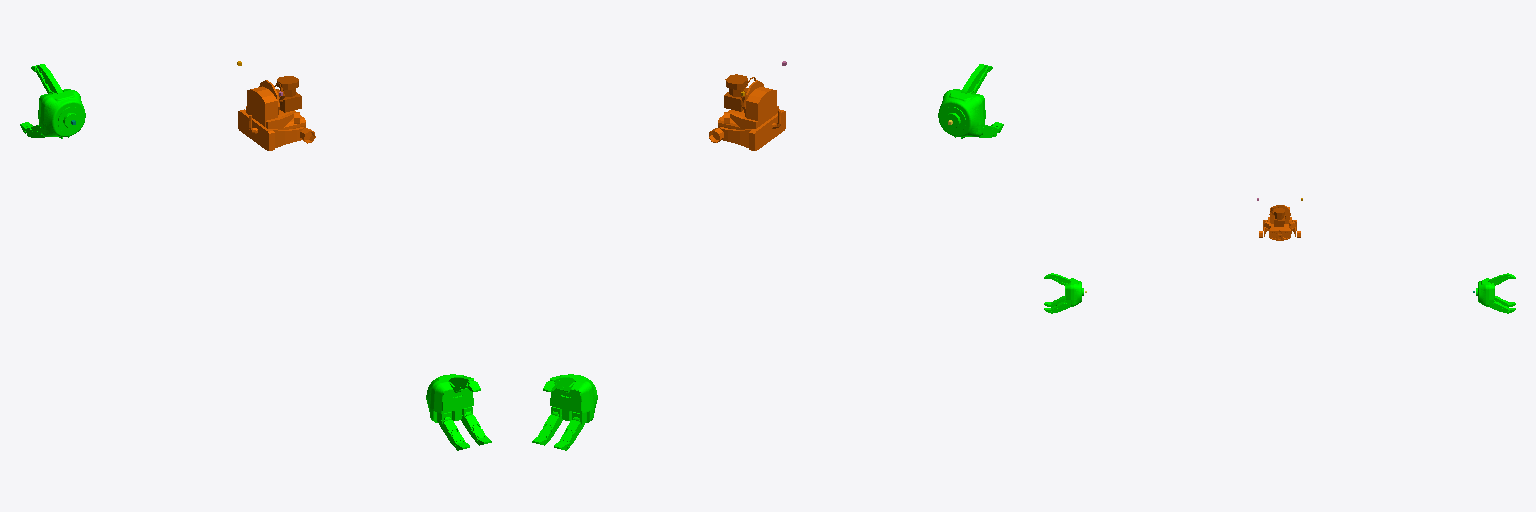
--- Render facts (derived) ---
3 views of the same robot in one strip: view 1: azimuth 30°, elevation 25°; view 2: azimuth 150°, elevation 25°; view 3: azimuth 270°, elevation 25° (orthographic).
Model atlas with 88 links and 87 joints (52 revolute, 1 continuous, 34 fixed), rooted at pelvis, posed every joint at zero.
Visible links, largest first — view 1: head, left_palm, right_palm, hokuyo_link; view 2: head, right_palm, left_palm, hokuyo_link; view 3: head.
Boxes of the visible links, bbox=[...] form: head: bbox=[238, 80, 315, 150]; left_palm: bbox=[38, 89, 85, 138]; right_palm: bbox=[426, 374, 473, 422]; hokuyo_link: bbox=[274, 76, 301, 112]; head: bbox=[709, 80, 785, 150]; right_palm: bbox=[938, 89, 985, 138]; left_palm: bbox=[550, 374, 597, 422]; hokuyo_link: bbox=[724, 74, 755, 111]; head: bbox=[1259, 205, 1300, 240].
Bounding box of the posed robot: 0.201 × 2.59 × 0.6841 m (x, y, z).
Meshes: 29 distinct files referenced, 28 mesh visuals loaded (7 OBJ); not drawn: 28 (reference not matched to a file when rendering).

robot.urdf — atlas:
<?xml version="1.0" ?>
<!-- =================================================================================== -->
<!-- |    This document was autogenerated by xacro from atlas_v5_LR_RR.xacro           | -->
<!-- |    EDITING THIS FILE BY HAND IS NOT RECOMMENDED                                 | -->
<!-- =================================================================================== -->
<robot name="atlas" xmlns:xacro="http://www.ros.org/wiki/xacro">
  <link name="l_clav">
    <inertial>
      <mass value="4.466"/>
      <origin rpy="0 0 0" xyz="0 0 -0.084"/>
      <inertia ixx="0.011" ixy="0" ixz="0" iyy="0.009" iyz="0.004" izz="0.004"/>
    </inertial>
    <visual>
      <geometry>
        <mesh filename="package://atlas_v5/meshes/r_clav.obj"/>
      </geometry>
    </visual>
    <collision>
      <geometry>
        <mesh filename="package://atlas_v5/meshes/r_clav_chull.obj"/>
      </geometry>
    </collision>
  </link>
  <link name="l_foot">
    <inertial>
      <mass value="2.410"/>
      <origin rpy="0 0 0" xyz="0.027 0 -0.067"/>
      <inertia ixx="0.002" ixy="0" ixz="0" iyy="0.007" iyz="0" izz="0.008"/>
    </inertial>
    <visual>
      <geometry>
        <mesh filename="package://atlas_v5/meshes/l_foot.obj"/>
      </geometry>
    </visual>
    <collision>
      <geometry>
        <mesh filename="package://atlas_v5/meshes/l_foot_chull.obj"/>
      </geometry>
    </collision>
  </link>
  <link name="l_hand">
    <inertial>
      <mass value="0.5839"/>
      <origin rpy="0 0 0" xyz="0.00016 -0.08159 0.00002"/>
      <inertia ixx="0.000388" ixy="0" ixz="0" iyy="0.000477" iyz="0" izz="0.000379"/>
    </inertial>
  </link>
  <link name="l_larm">
    <inertial>
      <mass value="3.248"/>
      <origin rpy="0 0 0" xyz="0 0 0"/>
      <inertia ixx="0.00265" ixy="0" ixz="0" iyy="0.00446" iyz="0" izz="0.00446"/>
    </inertial>
    <visual>
      <geometry>
        <mesh filename="package://atlas_v5/meshes/r_larm.obj"/>
      </geometry>
    </visual>
    <collision>
      <geometry>
        <mesh filename="package://atlas_v5/meshes/r_larm_chull.obj"/>
      </geometry>
    </collision>
    <collision>
      <origin rpy=" 0.00000  0.00000  0.00000" xyz=" 0.00000  0.15000  0.00000"/>
      <geometry>
        <box size=" 0.15000  0.20000  0.15000"/>
      </geometry>
    </collision>
  </link>
  <link name="l_lfarm">
    <inertial>
      <mass value="0.648"/>
      <origin rpy="0 0 0" xyz="0.00017 -0.02515 0.00163"/>
      <inertia ixx="0.000764" ixy="0" ixz="0" iyy="0.000429" iyz="0" izz="0.000825"/>
    </inertial>
    <visual>
      <geometry>
        <mesh filename="package://atlas_v5/meshes/r_hand.obj"/>
      </geometry>
    </visual>
    <collision>
      <geometry>
        <mesh filename="package://atlas_v5/meshes/r_hand_chull.obj"/>
      </geometry>
    </collision>
  </link>
  <link name="l_lglut">
    <inertial>
      <mass value="0.898"/>
      <origin rpy="0 0 0" xyz="0.0133341 0.0170484 -0.0312052"/>
      <inertia ixx="0.000691326" ixy="-2.24344e-05" ixz="2.50508e-06" iyy="0.00126856" iyz="0.000137862" izz="0.00106487"/>
    </inertial>
    <visual>
      <geometry>
        <mesh filename="package://atlas_v5/meshes/l_lglut.obj"/>
      </geometry>
    </visual>
    <collision>
      <geometry>
        <mesh filename="package://atlas_v5/meshes/l_lglut_chull.obj"/>
      </geometry>
    </collision>
  </link>
  <link name="l_lleg">
    <inertial>
      <mass value="4.515"/>
      <origin rpy="0 0 0" xyz="0.001 0 -0.187"/>
      <inertia ixx="0.077" ixy="0" ixz="-0.003" iyy="0.076" iyz="0" izz="0.01"/>
    </inertial>
    <visual>
      <geometry>
        <mesh filename="package://atlas_v5/meshes/l_lleg.obj"/>
      </geometry>
    </visual>
    <collision>
      <geometry>
        <mesh filename="package://atlas_v5/meshes/l_lleg_chull.obj"/>
      </geometry>
    </collision>
  </link>
  <link name="l_scap">
    <inertial>
      <mass value="3.899"/>
      <origin rpy="0 0 0" xyz="0 0 0"/>
      <inertia ixx="0.00319" ixy="0" ixz="0" iyy="0.00583" iyz="0" izz="0.00583"/>
    </inertial>
    <visual>
      <geometry>
        <mesh filename="package://atlas_v5/meshes/r_scap.obj"/>
      </geometry>
    </visual>
    <collision>
      <geometry>
        <mesh filename="package://atlas_v5/meshes/r_scap_chull.obj"/>
      </geometry>
    </collision>
  </link>
  <link name="l_talus">
    <inertial>
      <mass value="0.125"/>
      <origin rpy="0 0 0" xyz="0 0 0"/>
      <inertia ixx="1.01674e-05" ixy="0" ixz="0" iyy="8.42775e-06" iyz="0" izz="1.30101e-05"/>
    </inertial>
    <visual>
      <geometry>
        <mesh filename="package://atlas_v5/meshes/l_talus.obj"/>
      </geometry>
    </visual>
  </link>
  <link name="l_uarm">
    <inertial>
      <mass value="4.386"/>
      <origin rpy="0 0 0" xyz="0 0.065 0"/>
      <inertia ixx="0.00656" ixy="0" ixz="0" iyy="0.00358" iyz="0" izz="0.00656"/>
    </inertial>
    <visual>
      <geometry>
        <mesh filename="package://atlas_v5/meshes/r_uarm.obj"/>
      </geometry>
    </visual>
    <collision>
      <geometry>
        <mesh filename="package://atlas_v5/meshes/r_uarm_chull.obj"/>
      </geometry>
    </collision>
  </link>
  <link name="l_ufarm">
    <inertial>
      <mass value="2.4798"/>
      <origin rpy="0 0 0" xyz="0.00015 0.08296 0.00037"/>
      <inertia ixx="0.012731" ixy="0" ixz="0" iyy="0.002857" iyz="0" izz="0.011948"/>
    </inertial>
    <visual>
      <geometry>
        <mesh filename="package://atlas_v5/meshes/r_farm.obj"/>
      </geometry>
    </visual>
    <collision>
      <geometry>
        <mesh filename="package://atlas_v5/meshes/r_farm_chull.obj"/>
      </geometry>
    </collision>
  </link>
  <link name="l_uglut">
    <inertial>
      <mass value="1.959"/>
      <origin rpy="0 0 0" xyz="0.00529262 -0.00344732 0.00313046"/>
      <inertia ixx="0.00074276" ixy="-3.79607e-08" ixz="-2.79549e-05" iyy="0.000688179" iyz="-3.2735e-08" izz="0.00041242"/>
    </inertial>
    <visual>
      <geometry>
        <mesh filename="package://atlas_v5/meshes/l_uglut.obj"/>
      </geometry>
    </visual>
    <collision>
      <geometry>
        <mesh filename="package://atlas_v5/meshes/l_uglut_chull.obj"/>
      </geometry>
    </collision>
  </link>
  <link name="l_uleg">
    <inertial>
      <mass value="8.204"/>
      <origin rpy="0 0 0" xyz="0 0 -0.21"/>
      <inertia ixx="0.09" ixy="0" ixz="0" iyy="0.09" iyz="0" izz="0.02"/>
    </inertial>
    <visual>
      <geometry>
        <mesh filename="package://atlas_v5/meshes/l_uleg.obj"/>
      </geometry>
    </visual>
    <!-- to cover the logo shield -->
    <!-- inside strut -->
    <!-- outside strut -->
    <collision>
      <geometry>
        <mesh filename="package://atlas_v5/meshes/l_uleg_chull.obj"/>
      </geometry>
    </collision>
  </link>
  <link name="ltorso">
    <inertial>
      <mass value="2.270"/>
      <origin rpy="0 0 0" xyz="-0.0112984 -3.15366e-06 0.0746835"/>
      <inertia ixx="0.0039092" ixy="-5.04491e-08" ixz="-0.000342157" iyy="0.00341694" iyz="4.87119e-07" izz="0.00174492"/>
    </inertial>
    <visual>
      <geometry>
        <mesh filename="package://atlas_v5/meshes/ltorso.obj"/>
      </geometry>
    </visual>
  </link>
  <link name="mtorso">
    <inertial>
      <mass value="0.799"/>
      <origin rpy="0 0 0" xyz="-0.00816266 -0.0131245 0.0305974"/>
      <inertia ixx="0.000454181" ixy="-6.10764e-05" ixz="3.94009e-05" iyy="0.000483282" iyz="5.27463e-05" izz="0.000444215"/>
    </inertial>
    <visual>
      <geometry>
        <mesh filename="package://atlas_v5/meshes/mtorso.obj"/>
      </geometry>
    </visual>
  </link>
  <link name="pelvis">
    <inertial>
      <mass value="9.509"/>
      <origin rpy="0 0 0" xyz="0.0111 0 0.0271"/>
      <inertia ixx="0.1244" ixy="0.0008" ixz="-0.0007" iyy="0.0958" iyz="-0.0005" izz="0.1167"/>
    </inertial>
    <visual>
      <geometry>
        <mesh filename="package://atlas_v5/meshes/pelvis.obj"/>
      </geometry>
    </visual>
    <collision>
      <geometry>
        <mesh filename="package://atlas_v5/meshes/pelvis_chull.obj"/>
      </geometry>
    </collision>
  </link>
  <link name="r_clav">
    <inertial>
      <mass value="4.466"/>
      <origin rpy="0 0 0" xyz="0 0 -0.084"/>
      <inertia ixx="0.011" ixy="0" ixz="0" iyy="0.009" iyz="0.004" izz="0.004"/>
    </inertial>
    <visual>
      <geometry>
        <mesh filename="package://atlas_v5/meshes/r_clav.obj"/>
      </geometry>
    </visual>
    <collision>
      <geometry>
        <mesh filename="package://atlas_v5/meshes/r_clav_chull.obj"/>
      </geometry>
    </collision>
  </link>
  <link name="r_foot">
    <inertial>
      <mass value="2.41"/>
      <origin rpy="0 0 0" xyz="0.027 0 -0.067"/>
      <inertia ixx="0.002" ixy="0" ixz="0" iyy="0.007" iyz="0" izz="0.008"/>
    </inertial>
    <visual>
      <geometry>
        <mesh filename="package://atlas_v5/meshes/r_foot.obj"/>
      </geometry>
    </visual>
    <collision>
      <geometry>
        <mesh filename="package://atlas_v5/meshes/r_foot_chull.obj"/>
      </geometry>
    </collision>
  </link>
  <link name="r_hand">
    <inertial>
      <mass value="0.5839"/>
      <origin rpy="0 0 0" xyz="0.00016 -0.08159 0.00002"/>
      <inertia ixx="0.000388" ixy="0" ixz="0" iyy="0.000477" iyz="0" izz="0.000379"/>
    </inertial>
  </link>
  <link name="r_larm">
    <inertial>
      <mass value="3.248"/>
      <origin rpy="0 0 0" xyz="0 0 0"/>
      <inertia ixx="0.00265" ixy="0" ixz="0" iyy="0.00446" iyz="0" izz="0.00446"/>
    </inertial>
    <visual>
      <geometry>
        <mesh filename="package://atlas_v5/meshes/r_larm.obj"/>
      </geometry>
    </visual>
    <collision>
      <geometry>
        <mesh filename="package://atlas_v5/meshes/r_larm_chull.obj"/>
      </geometry>
    </collision>
    <collision>
      <origin rpy=" 0.00000  0.00000  0.00000" xyz=" 0.00000  0.15000  0.00000"/>
      <geometry>
        <box size=" 0.15000  0.20000  0.15000"/>
      </geometry>
    </collision>
  </link>
  <link name="r_lfarm">
    <inertial>
      <mass value="0.648"/>
      <origin rpy="0 0 0" xyz="0.00017 -0.02515 0.00163"/>
      <inertia ixx="0.000764" ixy="0" ixz="0" iyy="0.000429" iyz="0" izz="0.000825"/>
    </inertial>
    <visual>
      <geometry>
        <mesh filename="package://atlas_v5/meshes/r_hand.obj"/>
      </geometry>
    </visual>
    <collision>
      <geometry>
        <mesh filename="package://atlas_v5/meshes/r_hand_chull.obj"/>
      </geometry>
    </collision>
  </link>
  <link name="r_lglut">
    <inertial>
      <mass value="0.898"/>
      <origin rpy="0 0 0" xyz="0.0133341 -0.0170484 -0.0312052"/>
      <inertia ixx="0.000691326" ixy="2.24344e-05" ixz="2.50508e-06" iyy="0.00126856" iyz="-0.000137862" izz="0.00106487"/>
    </inertial>
    <visual>
      <geometry>
        <mesh filename="package://atlas_v5/meshes/r_lglut.obj"/>
      </geometry>
    </visual>
    <collision>
      <geometry>
        <mesh filename="package://atlas_v5/meshes/r_lglut_chull.obj"/>
      </geometry>
    </collision>
  </link>
  <link name="r_lleg">
    <inertial>
      <mass value="4.515"/>
      <origin rpy="0 0 0" xyz="0.001 0 -0.187"/>
      <inertia ixx="0.077" ixy="-0" ixz="-0.003" iyy="0.076" iyz="-0" izz="0.01"/>
    </inertial>
    <visual>
      <geometry>
        <mesh filename="package://atlas_v5/meshes/r_lleg.obj"/>
      </geometry>
    </visual>
    <collision>
      <geometry>
        <mesh filename="package://atlas_v5/meshes/r_lleg_chull.obj"/>
      </geometry>
    </collision>
  </link>
  <link name="r_scap">
    <inertial>
      <mass value="3.899"/>
      <origin rpy="0 0 0" xyz="0 0 0"/>
      <inertia ixx="0.00319" ixy="0" ixz="0" iyy="0.00583" iyz="0" izz="0.00583"/>
    </inertial>
    <visual>
      <geometry>
        <mesh filename="package://atlas_v5/meshes/r_scap.obj"/>
      </geometry>
    </visual>
    <collision>
      <geometry>
        <mesh filename="package://atlas_v5/meshes/r_scap_chull.obj"/>
      </geometry>
    </collision>
  </link>
  <link name="r_talus">
    <inertial>
      <mass value="0.125"/>
      <origin rpy="0 0 0" xyz="0 0 0"/>
      <inertia ixx="1.01674e-05" ixy="0" ixz="0" iyy="8.42775e-06" iyz="0" izz="1.30101e-05"/>
    </inertial>
    <visual>
      <geometry>
        <mesh filename="package://atlas_v5/meshes/r_talus.obj"/>
      </geometry>
    </visual>
  </link>
  <link name="r_uarm">
    <inertial>
      <mass value="4.386"/>
      <origin rpy="0 0 0" xyz="0 0.065 0"/>
      <inertia ixx="0.00656" ixy="0" ixz="0" iyy="0.00358" iyz="0" izz="0.00656"/>
    </inertial>
    <visual>
      <geometry>
        <mesh filename="package://atlas_v5/meshes/r_uarm.obj"/>
      </geometry>
    </visual>
    <collision>
      <geometry>
        <mesh filename="package://atlas_v5/meshes/r_uarm_chull.obj"/>
      </geometry>
    </collision>
  </link>
  <link name="r_ufarm">
    <inertial>
      <mass value="2.4798"/>
      <origin rpy="0 0 0" xyz="0.00015 0.08296 0.00037"/>
      <inertia ixx="0.012731" ixy="0" ixz="0" iyy="0.002857" iyz="0" izz="0.011948"/>
    </inertial>
    <visual>
      <geometry>
        <mesh filename="package://atlas_v5/meshes/r_farm.obj"/>
      </geometry>
    </visual>
    <collision>
      <geometry>
        <mesh filename="package://atlas_v5/meshes/r_farm_chull.obj"/>
      </geometry>
    </collision>
  </link>
  <link name="r_uglut">
    <inertial>
      <mass value="1.959"/>
      <origin rpy="0 0 0" xyz="0.00529262 0.00344732 0.00313046"/>
      <inertia ixx="0.00074276" ixy="3.79607e-08" ixz="-2.79549e-05" iyy="0.000688179" iyz="3.2735e-08" izz="0.00041242"/>
    </inertial>
    <visual>
      <geometry>
        <mesh filename="package://atlas_v5/meshes/r_uglut.obj"/>
      </geometry>
    </visual>
    <collision>
      <geometry>
        <mesh filename="package://atlas_v5/meshes/r_uglut_chull.obj"/>
      </geometry>
    </collision>
  </link>
  <link name="r_uleg">
    <inertial>
      <mass value="8.204"/>
      <origin rpy="0 0 0" xyz="0 0 -0.21"/>
      <inertia ixx="0.09" ixy="0" ixz="0" iyy="0.09" iyz="0" izz="0.02"/>
    </inertial>
    <visual>
      <geometry>
        <mesh filename="package://atlas_v5/meshes/r_uleg.obj"/>
      </geometry>
    </visual>
    <!-- to cover the logo shield -->
    <!-- inside strut -->
    <!-- outside strut -->
    <collision>
      <geometry>
        <mesh filename="package://atlas_v5/meshes/r_uleg_chull.obj"/>
      </geometry>
    </collision>
  </link>
  <link name="utorso">
    <inertial>
      <mass value="84.409"/>
      <origin rpy="0 0 0" xyz="-0.0622 0.0023 0.3157"/>
      <inertia ixx="1.577" ixy="-0.032" ixz="0.102" iyy="1.602" iyz="0.047" izz="0.565"/>
    </inertial>
    <visual>
      <geometry>
        <mesh filename="package://atlas_v5/meshes/utorso.obj"/>
      </geometry>
    </visual>
    <collision>
      <geometry>
        <mesh filename="package://atlas_v5/meshes/utorso_chull.obj"/>
      </geometry>
    </collision>
  </link>
  <joint name="back_bkx" type="revolute">
    <origin rpy="0 0 0" xyz="0 0 0.05"/>
    <axis xyz="1 0 0"/>
    <parent link="mtorso"/>
    <child link="utorso"/>
    <dynamics damping="0.1" friction="0"/>
    <limit effort="300" lower="-0.523599" upper="0.523599" velocity="12"/>
    <safety_controller k_position="100" k_velocity="100" soft_lower_limit="-10.5236" soft_upper_limit="10.5236"/>
  </joint>
  <joint name="back_bky" type="revolute">
    <origin rpy="0 0 0" xyz="0 0 0.162"/>
    <axis xyz="0 1 0"/>
    <parent link="ltorso"/>
    <child link="mtorso"/>
    <dynamics damping="0.1" friction="0"/>
    <limit effort="445" lower="-0.219388" upper="0.538783" velocity="9"/>
    <safety_controller k_position="100" k_velocity="100" soft_lower_limit="-10.2194" soft_upper_limit="10.5388"/>
  </joint>
  <joint name="back_bkz" type="revolute">
    <origin rpy="0 0 0" xyz="-0.0125 0 0"/>
    <axis xyz="0 0 1"/>
    <parent link="pelvis"/>
    <child link="ltorso"/>
    <dynamics damping="0.1" friction="0"/>
    <limit effort="106" lower="-0.663225" upper="0.663225" velocity="12"/>
    <safety_controller k_position="100" k_velocity="100" soft_lower_limit="-10.6632" soft_upper_limit="10.6632"/>
  </joint>
  <joint name="l_arm_elx" type="revolute">
    <origin rpy="0 0 0" xyz="0 -0.119 0.0092"/>
    <axis xyz="-1.0 -0.0 -0.0"/>
    <parent link="l_uarm"/>
    <child link="l_larm"/>
    <dynamics damping="0.1" friction="0"/>
    <limit effort="112" lower="0" upper="2.35619" velocity="12"/>
    <safety_controller k_position="100" k_velocity="100" soft_lower_limit="-10" soft_upper_limit="12.3562"/>
  </joint>
  <joint name="l_arm_ely" type="revolute">
    <origin rpy="0 0 0" xyz="0 -0.187 -0.016"/>
    <axis xyz="-0.0 -1.0 -0.0"/>
    <parent link="l_scap"/>
    <child link="l_uarm"/>
    <dynamics damping="0.1" friction="0"/>
    <limit effort="63" lower="0" upper="3.14159" velocity="12"/>
    <safety_controller k_position="100" k_velocity="100" soft_lower_limit="-10" soft_upper_limit="13.1416"/>
  </joint>
  <joint name="l_arm_shx" type="revolute">
    <origin rpy="0 0 0" xyz="0 -0.11 -0.245"/>
    <axis xyz="-1.0 -0.0 -0.0"/>
    <parent link="l_clav"/>
    <child link="l_scap"/>
    <dynamics damping="0.1" friction="0"/>
    <limit effort="99" lower="-1.5708" upper="1.5708" velocity="12"/>
    <safety_controller k_position="100" k_velocity="100" soft_lower_limit="-11.5708" soft_upper_limit="11.5708"/>
  </joint>
  <joint name="l_arm_shz" type="revolute">
    <origin rpy="0 0 3.14159265359" xyz="0.1406 0.2256 0.4776"/>
    <axis xyz="0 0 1"/>
    <parent link="utorso"/>
    <child link="l_clav"/>
    <dynamics damping="0.1" friction="0"/>
    <limit effort="87" lower="-1.5708" upper="0.785398" velocity="12"/>
    <safety_controller k_position="100" k_velocity="100" soft_lower_limit="-11.5708" soft_upper_limit="10.7854"/>
  </joint>
  <joint name="l_arm_mwx" type="revolute">
    <origin rpy="0 0 0" xyz="0 0 0"/>
    <axis xyz="1 0 0"/>
    <parent link="l_ufarm"/>
    <child link="l_lfarm"/>
    <dynamics damping="0.1" friction="0"/>
    <limit effort="25" lower="-1.76" upper="1.76" velocity="10"/>
    <safety_controller k_position="100" k_velocity="100" soft_lower_limit="-11.7628" soft_upper_limit="11.7628"/>
  </joint>
  <joint name="l_arm_uwy" type="revolute">
    <origin rpy="0 3.14159265359 0" xyz="0 -0.29955 -0.00921"/>
    <axis xyz="-0.0 -1.0 -0.0"/>
    <parent link="l_larm"/>
    <child link="l_ufarm"/>
    <dynamics damping="0.1" friction="0"/>
    <limit effort="25" lower="-2.98" upper="2.98" velocity="10"/>
    <safety_controller k_position="100" k_velocity="100" soft_lower_limit="-13.011" soft_upper_limit="13.011"/>
  </joint>
  <joint name="l_arm_lwy" type="revolute">
    <origin rpy="0 3.14159265359 0" xyz="0 0 0"/>
    <axis xyz="-0.0 -1.0 -0.0"/>
    <parent link="l_lfarm"/>
    <child link="l_hand"/>
    <dynamics damping="0.1" friction="0"/>
    <limit effort="25" lower="-2.82" upper="2.82" velocity="10"/>
    <safety_controller k_position="100" k_velocity="100" soft_lower_limit="-12.9671" soft_upper_limit="12.9671"/>
  </joint>
  <joint name="l_leg_akx" type="revolute">
    <origin rpy="0 0 0" xyz="0 0 0"/>
    <axis xyz="1 0 0"/>
    <parent link="l_talus"/>
    <child link="l_foot"/>
    <dynamics damping="0.1" friction="0"/>
    <limit effort="360" lower="-0.7" upper="0.7" velocity="12"/>
    <safety_controller k_position="100" k_velocity="100" soft_lower_limit="-10.8" soft_upper_limit="10.8"/>
  </joint>
  <joint name="l_leg_aky" type="revolute">
    <origin rpy="0 0 0" xyz="0 0 -0.422"/>
    <axis xyz="0 1 0"/>
    <parent link="l_lleg"/>
    <child link="l_talus"/>
    <dynamics damping="0.1" friction="0"/>
    <limit effort="740" lower="-1.06" upper="0.72" velocity="12"/>
    <safety_controller k_position="100" k_velocity="100" soft_lower_limit="-11" soft_upper_limit="10.7"/>
  </joint>
  <joint name="l_leg_hpx" type="revolute">
    <origin rpy="0 0 0" xyz="0 0 0"/>
    <axis xyz="1 0 0"/>
    <parent link="l_uglut"/>
    <child link="l_lglut"/>
    <dynamics damping="0.1" friction="0"/>
    <limit effort="530" lower="-0.23" upper="0.52" velocity="12"/>
    <safety_controller k_position="100" k_velocity="100" soft_lower_limit="-10.5236" soft_upper_limit="10.5236"/>
  </joint>
  <joint name="l_leg_hpy" type="revolute">
    <origin rpy="0 0 0" xyz="0.05 0.0225 -0.066"/>
    <axis xyz="0 1 0"/>
    <parent link="l_lglut"/>
    <child link="l_uleg"/>
    <dynamics damping="0.1" friction="0"/>
    <limit effort="840" lower="-1.61234" upper="0.65764" velocity="12"/>
    <safety_controller k_position="100" k_velocity="100" soft_lower_limit="-11.6123" soft_upper_limit="10.6576"/>
  </joint>
  <joint name="l_leg_hpz" type="revolute">
    <origin rpy="0 0 0" xyz="0 0.089 0"/>
    <axis xyz="0 0 1"/>
    <parent link="pelvis"/>
    <child link="l_uglut"/>
    <dynamics damping="0.1" friction="0"/>
    <limit effort="275" lower="-0.2" upper="0.82" velocity="12"/>
    <safety_controller k_position="100" k_velocity="100" soft_lower_limit="-10.1744" soft_upper_limit="10.7868"/>
  </joint>
  <joint name="l_leg_kny" type="revolute">
    <origin rpy="0 0 0" xyz="-0.05 0 -0.374"/>
    <axis xyz="0 1 0"/>
    <parent link="l_uleg"/>
    <child link="l_lleg"/>
    <dynamics damping="0.1" friction="0"/>
    <limit effort="890" lower="0" upper="2.35637" velocity="12"/>
    <safety_controller k_position="100" k_velocity="100" soft_lower_limit="-10" soft_upper_limit="12.3564"/>
  </joint>
  <joint name="neck_ay" type="revolute">
    <origin rpy="0 0 0" xyz="0.2546 0 0.6215"/>
    <axis xyz="0 1 0"/>
    <parent link="utorso"/>
    <child link="head"/>
    <dynamics damping="0.1" friction="0"/>
    <limit effort="25" lower="-0.605" upper="1.16" velocity="6.28"/>
    <safety_controller k_position="100" k_velocity="100" soft_lower_limit="-10.6021" soft_upper_limit="11.1432"/>
  </joint>
  <joint name="r_arm_elx" type="revolute">
    <origin rpy="0 0 0" xyz="0 -0.119 0.0092"/>
    <axis xyz="1 0 0"/>
    <parent link="r_uarm"/>
    <child link="r_larm"/>
    <dynamics damping="0.1" friction="0"/>
    <limit effort="112" lower="-2.35619" upper="0" velocity="12"/>
    <safety_controller k_position="100" k_velocity="100" soft_lower_limit="-12.3562" soft_upper_limit="10"/>
  </joint>
  <joint name="r_arm_ely" type="revolute">
    <origin rpy="0 0 0" xyz="0 -0.187 -0.016"/>
    <axis xyz="0 1 0"/>
    <parent link="r_scap"/>
    <child link="r_uarm"/>
    <dynamics damping="0.1" friction="0"/>
    <limit effort="63" lower="0" upper="3.14159" velocity="12"/>
    <safety_controller k_position="100" k_velocity="100" soft_lower_limit="-10" soft_upper_limit="13.1416"/>
  </joint>
  <joint name="r_arm_shx" type="revolute">
    <origin rpy="0 0 0" xyz="0 -0.11 -0.245"/>
    <axis xyz="1 0 0"/>
    <parent link="r_clav"/>
    <child link="r_scap"/>
    <dynamics damping="0.1" friction="0"/>
    <limit effort="99" lower="-1.5708" upper="1.5708" velocity="12"/>
    <safety_controller k_position="100" k_velocity="100" soft_lower_limit="-11.5708" soft_upper_limit="11.5708"/>
  </joint>
  <joint name="r_arm_shz" type="revolute">
    <origin rpy="0 0 0" xyz="0.1406 -0.2256 0.4776"/>
    <axis xyz="0 0 1"/>
    <parent link="utorso"/>
    <child link="r_clav"/>
    <dynamics damping="0.1" friction="0"/>
    <limit effort="87" lower="-0.785398" upper="1.5708" velocity="12"/>
    <safety_controller k_position="100" k_velocity="100" soft_lower_limit="-10.7854" soft_upper_limit="11.5708"/>
  </joint>
  <joint name="r_arm_mwx" type="revolute">
    <origin rpy="0 0 0" xyz="0 0 0"/>
    <axis xyz="1 0 0"/>
    <parent link="r_ufarm"/>
    <child link="r_lfarm"/>
    <dynamics damping="0.1" friction="0"/>
    <limit effort="25" lower="-1.76" upper="1.76" velocity="10"/>
    <safety_controller k_position="100" k_velocity="100" soft_lower_limit="-11.7628" soft_upper_limit="11.7628"/>
  </joint>
  <joint name="r_arm_uwy" type="revolute">
    <origin rpy="0 0 0" xyz="0 -0.29955 -0.00921"/>
    <axis xyz="0 1 0"/>
    <parent link="r_larm"/>
    <child link="r_ufarm"/>
    <dynamics damping="0.1" friction="0"/>
    <limit effort="25" lower="-2.98" upper="2.98" velocity="10"/>
    <safety_controller k_position="100" k_velocity="100" soft_lower_limit="-13.011" soft_upper_limit="13.011"/>
  </joint>
  <joint name="r_arm_lwy" type="revolute">
    <origin rpy="0 0 0" xyz="0 0 0"/>
    <axis xyz="0 1 0"/>
    <parent link="r_lfarm"/>
    <child link="r_hand"/>
    <dynamics damping="0.1" friction="0"/>
    <limit effort="25" lower="-2.82" upper="2.82" velocity="10"/>
    <safety_controller k_position="100" k_velocity="100" soft_lower_limit="-12.9671" soft_upper_limit="12.9671"/>
  </joint>
  <joint name="r_leg_akx" type="revolute">
    <origin rpy="0 0 0" xyz="0 0 0"/>
    <axis xyz="1 0 0"/>
    <parent link="r_talus"/>
    <child link="r_foot"/>
    <dynamics damping="0.1" friction="0"/>
    <limit effort="360" lower="-0.7" upper="0.7" velocity="12"/>
    <safety_controller k_position="100" k_velocity="100" soft_lower_limit="-10.8" soft_upper_limit="10.8"/>
  </joint>
  <joint name="r_leg_aky" type="revolute">
    <origin rpy="0 0 0" xyz="0 0 -0.422"/>
    <axis xyz="0 1 0"/>
    <parent link="r_lleg"/>
    <child link="r_talus"/>
    <dynamics damping="0.1" friction="0"/>
    <limit effort="740" lower="-1.06" upper="0.72" velocity="12"/>
    <safety_controller k_position="100" k_velocity="100" soft_lower_limit="-11" soft_upper_limit="10.7"/>
  </joint>
  <joint name="r_leg_hpx" type="revolute">
    <origin rpy="0 0 0" xyz="0 0 0"/>
    <axis xyz="1 0 0"/>
    <parent link="r_uglut"/>
    <child link="r_lglut"/>
    <dynamics damping="0.1" friction="0"/>
    <limit effort="530" lower="-0.52" upper="0.23" velocity="12"/>
    <safety_controller k_position="100" k_velocity="100" soft_lower_limit="-10.5236" soft_upper_limit="10.5236"/>
  </joint>
  <joint name="r_leg_hpy" type="revolute">
    <origin rpy="0 0 0" xyz="0.05 -0.0225 -0.066"/>
    <axis xyz="0 1 0"/>
    <parent link="r_lglut"/>
    <child link="r_uleg"/>
    <dynamics damping="0.1" friction="0"/>
    <limit effort="840" lower="-1.61234" upper="0.65764" velocity="12"/>
    <safety_controller k_position="100" k_velocity="100" soft_lower_limit="-11.6123" soft_upper_limit="10.6576"/>
  </joint>
  <joint name="r_leg_hpz" type="revolute">
    <origin rpy="0 0 0" xyz="0 -0.089 0"/>
    <axis xyz="0 0 1"/>
    <parent link="pelvis"/>
    <child link="r_uglut"/>
    <dynamics damping="0.1" friction="0"/>
    <limit effort="275" lower="-0.82" upper="0.2" velocity="12"/>
    <safety_controller k_position="100" k_velocity="100" soft_lower_limit="-10.7868" soft_upper_limit="10.1744"/>
  </joint>
  <joint name="r_leg_kny" type="revolute">
    <origin rpy="0 0 0" xyz="-0.05 0 -0.374"/>
    <axis xyz="0 1 0"/>
    <parent link="r_uleg"/>
    <child link="r_lleg"/>
    <dynamics damping="0.1" friction="0"/>
    <limit effort="890" lower="0" upper="2.35637" velocity="12"/>
    <safety_controller k_position="100" k_velocity="100" soft_lower_limit="-10" soft_upper_limit="12.3564"/>
  </joint>
  <link name="r_situational_awareness_camera_link">
    <inertial>
      <mass value="0.1"/>
      <origin xyz="0 0 0"/>
      <inertia ixx="0.00001" ixy="0" ixz="0" iyy="0.00001" iyz="0" izz="0.00001"/>
    </inertial>
    <visual>
      <origin rpy="0 0 0" xyz="0 0 0"/>
      <geometry>
        <box size="0.01 0.01 0.01"/>
      </geometry>
    </visual>
    <collision>
      <origin rpy="0 0 0" xyz="0 0 0"/>
      <geometry>
        <box size="0.01 0.01 0.01"/>
      </geometry>
    </collision>
  </link>
  <joint name="r_situational_awareness_camera_joint" type="fixed">
    <parent link="utorso"/>
    <child link="r_situational_awareness_camera_link"/>
    <!-- SA camera mounted above the multisense head -->
    <origin rpy="0 0 -1.309" xyz="0.155 -0.121 0.785"/>
  </joint>
  <joint name="r_situational_awareness_camera_optical_frame_joint" type="fixed">
    <origin rpy="-1.5708 0.0 -1.5708" xyz="0 0 0"/>
    <parent link="r_situational_awareness_camera_link"/>
    <child link="r_situational_awareness_camera_optical_frame"/>
  </joint>
  <link name="r_situational_awareness_camera_optical_frame"/>
  <link name="l_situational_awareness_camera_link">
    <inertial>
      <mass value="0.1"/>
      <origin xyz="0 0 0"/>
      <inertia ixx="0.00001" ixy="0" ixz="0" iyy="0.00001" iyz="0" izz="0.00001"/>
    </inertial>
    <visual>
      <origin rpy="0 0 0" xyz="0 0 0"/>
      <geometry>
        <box size="0.01 0.01 0.01"/>
      </geometry>
    </visual>
    <collision>
      <origin rpy="0 0 0" xyz="0 0 0"/>
      <geometry>
        <box size="0.01 0.01 0.01"/>
      </geometry>
    </collision>
  </link>
  <joint name="l_situational_awareness_camera_joint" type="fixed">
    <parent link="utorso"/>
    <child link="l_situational_awareness_camera_link"/>
    <!-- SA camera mounted above the multisense head -->
    <origin rpy="0 0 1.309" xyz="0.155 0.121 0.785"/>
  </joint>
  <joint name="l_situational_awareness_camera_optical_frame_joint" type="fixed">
    <origin rpy="-1.5708 0.0 -1.5708" xyz="0 0 0"/>
    <parent link="l_situational_awareness_camera_link"/>
    <child link="l_situational_awareness_camera_optical_frame"/>
  </joint>
  <link name="l_situational_awareness_camera_optical_frame"/>
  <frame link="l_foot" name="l_foot_sole" rpy="0 0 0" xyz="0.0426  0.0017 -0.07645"/>
  <frame link="r_foot" name="r_foot_sole" rpy="0 0 0" xyz="0.0426 -0.0017 -0.07645"/>
  <frame link="l_foot" name="l_foot_toe" rpy="0 0 0" xyz="0.1728 0.0017 -0.07645"/>
  <frame link="r_foot" name="r_foot_toe" rpy="0 0 0" xyz="0.1728 -0.0017 -0.07645"/>
  <collision_filter_group name="feet">
    <member link="l_foot"/>
    <member link="r_foot"/>
    <ignored_collision_filter_group collision_filter_group="feet"/>
  </collision_filter_group>
  <collision_filter_group name="core">
    <member link="utorso"/>
    <member link="pelvis"/>
    <ignored_collision_filter_group collision_filter_group="core"/>
  </collision_filter_group>
  <collision_filter_group name="ignore_core">
    <member link="r_scap"/>
    <member link="l_scap"/>
    <member link="r_clav"/>
    <member link="l_clav"/>
    <ignored_collision_filter_group collision_filter_group="core"/>
  </collision_filter_group>
  <collision_filter_group name="r_uleg">
    <member link="r_uglut"/>
    <member link="r_lglut"/>
    <member link="r_uleg"/>
    <ignored_collision_filter_group collision_filter_group="core"/>
    <ignored_collision_filter_group collision_filter_group="r_uleg"/>
    <ignored_collision_filter_group collision_filter_group="l_uleg"/>
  </collision_filter_group>
  <collision_filter_group name="l_uleg">
    <member link="l_uglut"/>
    <member link="l_lglut"/>
    <member link="l_uleg"/>
    <ignored_collision_filter_group collision_filter_group="core"/>
    <ignored_collision_filter_group collision_filter_group="l_uleg"/>
    <ignored_collision_filter_group collision_filter_group="l_uleg"/>
  </collision_filter_group>
  <collision_filter_group name="r_leg">
    <member link="r_lleg"/>
    <member link="r_talus"/>
    <member link="r_foot"/>
    <ignored_collision_filter_group collision_filter_group="r_leg"/>
    <ignored_collision_filter_group collision_filter_group="r_uleg"/>
  </collision_filter_group>
  <collision_filter_group name="l_leg">
    <member link="l_lleg"/>
    <member link="l_talus"/>
    <member link="l_foot"/>
    <ignored_collision_filter_group collision_filter_group="l_leg"/>
    <ignored_collision_filter_group collision_filter_group="l_uleg"/>
  </collision_filter_group>
  <collision_filter_group name="r_arm">
    <member link="r_clav"/>
    <member link="r_scap"/>
    <member link="r_uarm"/>
    <member link="r_larm"/>
    <member link="r_ufarm"/>
    <member link="r_lfarm"/>
    <member link="r_hand"/>
    <ignored_collision_filter_group collision_filter_group="r_arm"/>
  </collision_filter_group>
  <collision_filter_group name="l_arm">
    <member link="l_clav"/>
    <member link="l_scap"/>
    <member link="l_uarm"/>
    <member link="l_larm"/>
    <member link="l_ufarm"/>
    <member link="l_lfarm"/>
    <member link="l_hand"/>
    <ignored_collision_filter_group collision_filter_group="l_arm"/>
  </collision_filter_group>
  <link name="head">
    <inertial>
      <origin rpy="0 0 0" xyz="-0.075493 3.3383E-05 0.02774"/>
      <mass value="1.4199"/>
      <inertia ixx="0.0039688" ixy="-1.5797E-06" ixz="-0.00089293" iyy="0.0041178" iyz="-6.8415E-07" izz="0.0035243"/>
    </inertial>
    <visual>
      <origin rpy="0 0 0" xyz="0 0 0"/>
      <geometry>
        <mesh filename="package://multisense_sl/meshes/head.obj"/>
      </geometry>
      <material name="">
        <color rgba="0.9098 0.44314 0.031373 1"/>
      </material>
    </visual>
    <collision>
      <origin rpy="0 0 0" xyz="-0.0503 0 -0.00195"/>
      <geometry>
        <box size="0.1311 0.12 0.0591"/>
      </geometry>
    </collision>
  </link>
  <joint name="left_camera_optical_joint" type="fixed">
    <origin rpy="-0.00903666 -0.00460568 -0.00953286" xyz="0.037817599268810 -0.091862694985753 -0.008823379197658"/>
    <parent link="left_camera_optical_frame"/>
    <child link="motor"/>
  </joint>
  <link name="motor"/>
  <link name="spindle"/>
  <joint name="hokuyo_joint" type="continuous">
    <origin rpy="0 0 3.14159265" xyz="0 0 0"/>
    <parent link="motor"/>
    <child link="spindle"/>
    <axis xyz="0 0 1"/>
  </joint>
  <joint name="spindle_joint" type="fixed">
    <parent link="spindle"/>
    <child link="hokuyo_link"/>
  </joint>
  <link name="hokuyo_link">
    <inertial>
      <origin rpy="0 0 0" xyz="0.012428 0.0004084 -0.0041835"/>
      <mass value="0.057664"/>
      <inertia ixx="3.7174E-05" ixy="4.9927E-08" ixz="1.1015E-05" iyy="4.2412E-05" iyz="-9.8165E-09" izz="4.167E-05"/>
    </inertial>
    <visual>
      <origin rpy="-1.9179632679 -1.57079632679 0" xyz="-.032 -.08 0.013"/>
      <geometry>
        <mesh filename="package://multisense_sl/meshes/head_camera.obj"/>
      </geometry>
      <material name="">
        <color rgba="0.72941 0.35686 0.023529 1"/>
      </material>
    </visual>
    <collision>
      <geometry>
        <cylinder length="0.047" radius="0.024425"/>
      </geometry>
    </collision>
  </link>
  <joint name="head_hokuyo_fixed_joint" type="fixed">
    <axis xyz="0 1 0"/>
    <origin rpy="1.57935 -1.5462 3.13304" xyz="-0.000160855024446 0.024008705700733 -0.000009006827089"/>
    <parent link="hokuyo_link"/>
    <child link="head_hokuyo_frame"/>
  </joint>
  <link name="head_hokuyo_frame">
    <inertial>
      <mass value="0.01"/>
      <origin rpy="0 0 0" xyz="0 0 0"/>
      <inertia ixx="0.00001" ixy="0" ixz="0" iyy="0.00001" iyz="0" izz="0.00001"/>
    </inertial>
  </link>
  <gazebo reference="head_hokuyo_frame">
    <sensor name="head_hokuyo_sensor" type="ray">
      <pose>0 0 0 0 0 0</pose>
      <visualize>false</visualize>
      <update_rate>40</update_rate>
      <ray>
        <scan>
          <horizontal>
            <samples>720</samples>
            <resolution>1</resolution>
            <min_angle>-1.570796</min_angle>
            <max_angle>1.570796</max_angle>
          </horizontal>
        </scan>
        <range>
          <min>0.10</min>
          <max>30.0</max>
          <resolution>0.01</resolution>
        </range>
      </ray>
      <plugin filename="libgazebo_ros_laser.so" name="gazebo_ros_head_hokuyo_controller">
        <gaussianNoise>0.005</gaussianNoise>
        <alwaysOn>true</alwaysOn>
        <updateRate>40</updateRate>
        <topicName>/scan</topicName>
        <frameName>head_hokuyo_frame</frameName>
      </plugin>
    </sensor>
  </gazebo>
  <joint name="left_camera_frame_joint" type="fixed">
    <!-- optical frame collocated with tilting DOF -->
    <origin xyz="0.0 0.035 -0.002"/>
    <parent link="head"/>
    <child link="left_camera_frame"/>
  </joint>
  <link name="left_camera_frame">
    <inertial>
      <mass value="0.1"/>
      <origin xyz="0 0 0"/>
      <inertia ixx="0.001" ixy="0.0" ixz="0.0" iyy="0.001" iyz="0.0" izz="0.001"/>
    </inertial>
  </link>
  <joint name="left_camera_optical_frame_joint" type="fixed">
    <origin rpy="-1.57079632679 0.0 -1.57079632679" xyz="0 0 0"/>
    <parent link="left_camera_frame"/>
    <child link="left_camera_optical_frame"/>
  </joint>
  <link name="left_camera_optical_frame"/>
  <gazebo reference="left_camera_frame">
    <sensor name="left_camera_sensor" type="camera">
      <!-- update rate based on spec sheet for 2mp 15fps -->
      <update_rate>15.0</update_rate>
      <camera>
        <!-- hfov based on spec sheet, 80 degrees X 45 degrees -->
        <!-- for resolution of 2048 x 1088, we have non-unity aspect ratio -->
        <!-- but gazebo will violate the vertical fov for now to keep aspect ratio of 1 -->
        <horizontal_fov>1.3962634</horizontal_fov>
        <image>
          <width>2048</width>
          <height>1088</height>
          <format>R8G8B8</format>
        </image>
        <clip>
          <near>0.02</near>
          <far>100</far>
        </clip>
      </camera>
      <plugin filename="libgazebo_ros_camera.so" name="left_camera_controller">
        <alwaysOn>true</alwaysOn>
        <!-- update rate based on spec sheet for 2mp 15fps -->
        <updateRate>15.0</updateRate>
        <cameraName>multisense/left</cameraName>
        <imageTopicName>image_raw</imageTopicName>
        <cameraInfoTopicName>camera_info</cameraInfoTopicName>
        <frameName>left_camera_optical_frame</frameName>
        <hackBaseline>0.0</hackBaseline>
        <distortionK1>0.0</distortionK1>
        <distortionK2>0.0</distortionK2>
        <distortionK3>0.0</distortionK3>
        <distortionT1>0.0</distortionT1>
        <distortionT2>0.0</distortionT2>
      </plugin>
    </sensor>
  </gazebo>
  <joint name="right_camera_frame_joint" type="fixed">
    <origin xyz="0.0 -0.035 -0.002"/>
    <parent link="head"/>
    <child link="right_camera_frame"/>
  </joint>
  <link name="right_camera_frame">
    <inertial>
      <mass value="0.1"/>
      <origin xyz="0 0 0"/>
      <inertia ixx="0.001" ixy="0.0" ixz="0.0" iyy="0.001" iyz="0.0" izz="0.001"/>
    </inertial>
  </link>
  <joint name="right_camera_optical_frame_joint" type="fixed">
    <origin rpy="-1.5708 0.0 -1.5708" xyz="0 0 0"/>
    <parent link="right_camera_frame"/>
    <child link="right_camera_optical_frame"/>
  </joint>
  <link name="right_camera_optical_frame"/>
  <gazebo reference="right_camera_frame">
    <sensor name="right_camera_sensor" type="camera">
      <!-- update rate based on spec sheet for 2mp 15fps -->
      <update_rate>15.0</update_rate>
      <camera>
        <!-- hfov based on spec sheet, 80 degrees X 45 degrees -->
        <!-- for resolution of 2048 x 1088, we have non-unity aspect ratio -->
        <!-- but gazebo will violate the vertical fov for now to keep aspect ratio of 1 -->
        <horizontal_fov>1.3962634</horizontal_fov>
        <image>
          <width>2048</width>
          <height>1088</height>
          <format>R8G8B8</format>
        </image>
        <clip>
          <near>0.02</near>
          <far>100</far>
        </clip>
      </camera>
      <plugin filename="libgazebo_ros_camera.so" name="right_camera_controller">
        <alwaysOn>true</alwaysOn>
        <!-- update rate based on spec sheet for 2mp 15fps -->
        <updateRate>15.0</updateRate>
        <cameraName>multisense/right</cameraName>
        <imageTopicName>image_raw</imageTopicName>
        <cameraInfoTopicName>camera_info</cameraInfoTopicName>
        <frameName>left_camera_optical_frame</frameName>
        <hackBaseline>0.07</hackBaseline>
        <distortionK1>0.0</distortionK1>
        <distortionK2>0.0</distortionK2>
        <distortionK3>0.0</distortionK3>
        <distortionT1>0.0</distortionT1>
        <distortionT2>0.0</distortionT2>
      </plugin>
    </sensor>
  </gazebo>
  <joint name="center_top_led_frame_joint" type="fixed">
    <origin xyz="0.01125 0.0 0.0105"/>
    <parent link="head"/>
    <child link="center_top_led_frame"/>
  </joint>
  <link name="center_top_led_frame">
    <inertial>
      <mass value="0.1"/>
      <origin xyz="0 0 0"/>
      <inertia ixx="0.001" ixy="0.0" ixz="0.0" iyy="0.001" iyz="0.0" izz="0.001"/>
    </inertial>
  </link>
  <joint name="center_bottom_led_frame_joint" type="fixed">
    <origin xyz="0.01125 0.0 -0.0155"/>
    <parent link="head"/>
    <child link="center_bottom_led_frame"/>
  </joint>
  <link name="center_bottom_led_frame">
    <inertial>
      <mass value="0.1"/>
      <origin xyz="0 0 0"/>
      <inertia ixx="0.001" ixy="0.0" ixz="0.0" iyy="0.001" iyz="0.0" izz="0.001"/>
    </inertial>
  </link>
  <joint name="left_led_frame_joint" type="fixed">
    <origin rpy="0 -0.15 0.53" xyz="-0.01443 0.07452 0.050346"/>
    <parent link="head"/>
    <child link="left_led_frame"/>
  </joint>
  <link name="left_led_frame">
    <inertial>
      <mass value="0.1"/>
      <origin xyz="0 0 0"/>
      <inertia ixx="0.001" ixy="0.0" ixz="0.0" iyy="0.001" iyz="0.0" izz="0.001"/>
    </inertial>
  </link>
  <joint name="right_led_frame_joint" type="fixed">
    <origin rpy="0 -0.15 -0.53" xyz="-0.01443 -0.07452 0.050346"/>
    <parent link="head"/>
    <child link="right_led_frame"/>
  </joint>
  <link name="right_led_frame">
    <inertial>
      <mass value="0.1"/>
      <origin xyz="0 0 0"/>
      <inertia ixx="0.001" ixy="0.0" ixz="0.0" iyy="0.001" iyz="0.0" izz="0.001"/>
    </inertial>
  </link>
  <link name="accel"/>
  <joint name="accel_joint" type="fixed">
    <origin rpy="0 1.5707 0" xyz="-.0475 .0302 -.00275"/>
    <!-- parent_link was head_root, mfallon changed -->
    <parent link="head"/>
    <child link="accel"/>
  </joint>
  <link name="mag"/>
  <joint name="mag_joint" type="fixed">
    <origin rpy="0 1.5707 0" xyz="-.0475 .0302 -.00275"/>
    <!-- parent_link was head_root, mfallon changed -->
    <parent link="head"/>
    <child link="mag"/>
  </joint>
  <link name="gyro"/>
  <joint name="gyro_joint" type="fixed">
    <origin rpy="1.5707 3.14159 1.5707 " xyz="-.0476 .0388 -.00075"/>
    <!-- parent_link was head_root, mfallon changed -->
    <parent link="head"/>
    <child link="gyro"/>
  </joint>
  <transmission name="head_hokuyo_trans" type="pr2_mechanism_model/SimpleTransmission">
    <joint name="hokuyo_joint"/>
    <actuator name="hokuyo_motor"/>
    <mechanicalReduction>1</mechanicalReduction>
  </transmission>
  <transmission name="back_bkz_trans" type="pr2_mechanism_model/SimpleTransmission">
    <joint name="back_bkz"/>
    <actuator name="back_bkz_motor"/>
    <mechanicalReduction>1</mechanicalReduction>
  </transmission>
  <transmission name="back_bky_trans" type="pr2_mechanism_model/SimpleTransmission">
    <actuator name="back_bky_motor"/>
    <joint name="back_bky"/>
    <mechanicalReduction>1</mechanicalReduction>
  </transmission>
  <transmission name="back_bkx_trans" type="pr2_mechanism_model/SimpleTransmission">
    <actuator name="back_bkx_motor"/>
    <joint name="back_bkx"/>
    <mechanicalReduction>1</mechanicalReduction>
  </transmission>
  <transmission name="l_arm_elx_trans" type="pr2_mechanism_model/SimpleTransmission">
    <actuator name="l_arm_elx_motor"/>
    <joint name="l_arm_elx"/>
    <mechanicalReduction>1</mechanicalReduction>
  </transmission>
  <transmission name="l_arm_ely_trans" type="pr2_mechanism_model/SimpleTransmission">
    <actuator name="l_arm_ely_motor"/>
    <joint name="l_arm_ely"/>
    <mechanicalReduction>1</mechanicalReduction>
  </transmission>
  <transmission name="l_arm_mwx_trans" type="pr2_mechanism_model/SimpleTransmission">
    <actuator name="l_arm_mwx_motor"/>
    <joint name="l_arm_mwx"/>
    <mechanicalReduction>1</mechanicalReduction>
  </transmission>
  <transmission name="l_arm_shx_trans" type="pr2_mechanism_model/SimpleTransmission">
    <actuator name="l_arm_shx_motor"/>
    <joint name="l_arm_shx"/>
    <mechanicalReduction>1</mechanicalReduction>
  </transmission>
  <transmission name="l_arm_shz_trans" type="pr2_mechanism_model/SimpleTransmission">
    <actuator name="l_arm_shz_motor"/>
    <joint name="l_arm_shz"/>
    <mechanicalReduction>1</mechanicalReduction>
  </transmission>
  <transmission name="l_arm_uwy_trans" type="pr2_mechanism_model/SimpleTransmission">
    <actuator name="l_arm_uwy_motor"/>
    <joint name="l_arm_uwy"/>
    <mechanicalReduction>1</mechanicalReduction>
  </transmission>
  <transmission name="l_arm_lwy_trans" type="pr2_mechanism_model/SimpleTransmission">
    <actuator name="l_arm_lwy_motor"/>
    <joint name="l_arm_lwy"/>
    <mechanicalReduction>1</mechanicalReduction>
  </transmission>
  <transmission name="l_leg_kny_trans" type="pr2_mechanism_model/SimpleTransmission">
    <actuator name="l_leg_kny_motor"/>
    <joint name="l_leg_kny"/>
    <mechanicalReduction>1</mechanicalReduction>
  </transmission>
  <transmission name="l_leg_akx_trans" type="pr2_mechanism_model/SimpleTransmission">
    <actuator name="l_leg_akx_motor"/>
    <joint name="l_leg_akx"/>
    <mechanicalReduction>1</mechanicalReduction>
  </transmission>
  <transmission name="l_leg_hpy_trans" type="pr2_mechanism_model/SimpleTransmission">
    <actuator name="l_leg_hpy_motor"/>
    <joint name="l_leg_hpy"/>
    <mechanicalReduction>1</mechanicalReduction>
  </transmission>
  <transmission name="l_leg_hpx_trans" type="pr2_mechanism_model/SimpleTransmission">
    <actuator name="l_leg_hpx_motor"/>
    <joint name="l_leg_hpx"/>
    <mechanicalReduction>1</mechanicalReduction>
  </transmission>
  <transmission name="l_leg_aky_trans" type="pr2_mechanism_model/SimpleTransmission">
    <actuator name="l_leg_aky_motor"/>
    <joint name="l_leg_aky"/>
    <mechanicalReduction>1</mechanicalReduction>
  </transmission>
  <transmission name="l_leg_hpz_trans" type="pr2_mechanism_model/SimpleTransmission">
    <actuator name="l_leg_hpz_motor"/>
    <joint name="l_leg_hpz"/>
    <mechanicalReduction>1</mechanicalReduction>
  </transmission>
  <transmission name="neck_ay_trans" type="pr2_mechanism_model/SimpleTransmission">
    <actuator name="neck_ay_motor"/>
    <joint name="neck_ay"/>
    <mechanicalReduction>1</mechanicalReduction>
  </transmission>
  <transmission name="r_arm_elx_trans" type="pr2_mechanism_model/SimpleTransmission">
    <actuator name="r_arm_elx_motor"/>
    <joint name="r_arm_elx"/>
    <mechanicalReduction>1</mechanicalReduction>
  </transmission>
  <transmission name="r_arm_ely_trans" type="pr2_mechanism_model/SimpleTransmission">
    <actuator name="r_arm_ely_motor"/>
    <joint name="r_arm_ely"/>
    <mechanicalReduction>1</mechanicalReduction>
  </transmission>
  <transmission name="r_arm_mwx_trans" type="pr2_mechanism_model/SimpleTransmission">
    <actuator name="r_arm_mwx_motor"/>
    <joint name="r_arm_mwx"/>
    <mechanicalReduction>1</mechanicalReduction>
  </transmission>
  <transmission name="r_arm_shx_trans" type="pr2_mechanism_model/SimpleTransmission">
    <actuator name="r_arm_shx_motor"/>
    <joint name="r_arm_shx"/>
    <mechanicalReduction>1</mechanicalReduction>
  </transmission>
  <transmission name="r_arm_shz_trans" type="pr2_mechanism_model/SimpleTransmission">
    <actuator name="r_arm_shz_motor"/>
    <joint name="r_arm_shz"/>
    <mechanicalReduction>1</mechanicalReduction>
  </transmission>
  <transmission name="r_arm_uwy_trans" type="pr2_mechanism_model/SimpleTransmission">
    <actuator name="r_arm_uwy_motor"/>
    <joint name="r_arm_uwy"/>
    <mechanicalReduction>1</mechanicalReduction>
  </transmission>
  <transmission name="r_arm_lwy_trans" type="pr2_mechanism_model/SimpleTransmission">
    <actuator name="r_arm_lwy_motor"/>
    <joint name="r_arm_lwy"/>
    <mechanicalReduction>1</mechanicalReduction>
  </transmission>
  <transmission name="r_leg_kny_trans" type="pr2_mechanism_model/SimpleTransmission">
    <actuator name="r_leg_kny_motor"/>
    <joint name="r_leg_kny"/>
    <mechanicalReduction>1</mechanicalReduction>
  </transmission>
  <transmission name="r_leg_akx_trans" type="pr2_mechanism_model/SimpleTransmission">
    <actuator name="r_leg_akx_motor"/>
    <joint name="r_leg_akx"/>
    <mechanicalReduction>1</mechanicalReduction>
  </transmission>
  <transmission name="r_leg_hpy_trans" type="pr2_mechanism_model/SimpleTransmission">
    <actuator name="r_leg_hpy_motor"/>
    <joint name="r_leg_hpy"/>
    <mechanicalReduction>1</mechanicalReduction>
  </transmission>
  <transmission name="r_leg_hpx_trans" type="pr2_mechanism_model/SimpleTransmission">
    <actuator name="r_leg_hpx_motor"/>
    <joint name="r_leg_hpx"/>
    <mechanicalReduction>1</mechanicalReduction>
  </transmission>
  <transmission name="r_leg_aky_trans" type="pr2_mechanism_model/SimpleTransmission">
    <actuator name="r_leg_aky_motor"/>
    <joint name="r_leg_aky"/>
    <mechanicalReduction>1</mechanicalReduction>
  </transmission>
  <transmission name="r_leg_hpz_trans" type="pr2_mechanism_model/SimpleTransmission">
    <actuator name="r_leg_hpz_motor"/>
    <joint name="r_leg_hpz"/>
    <mechanicalReduction>1</mechanicalReduction>
  </transmission>
  <link name="l_hand_force_torque">
    <inertial>
      <mass value="0.1"/>
      <origin xyz="0 0 0"/>
      <inertia ixx="0.00001" ixy="0" ixz="0" iyy="0.00001" iyz="0" izz="0.00001"/>
    </inertial>
    <visual>
      <origin rpy="0 0 0" xyz="0 0 0"/>
      <geometry>
        <box size="0.01 0.01 0.01"/>
      </geometry>
    </visual>
  </link>
  <joint name="l_hand_force_torque_joint" type="fixed">
    <origin rpy="0 0 3.141592" xyz="0 -0.1245 0"/>
    <parent link="l_hand"/>
    <child link="l_hand_force_torque"/>
  </joint>
  <link name="r_hand_force_torque">
    <inertial>
      <mass value="0.1"/>
      <origin xyz="0 0 0"/>
      <inertia ixx="0.00001" ixy="0" ixz="0" iyy="0.00001" iyz="0" izz="0.00001"/>
    </inertial>
    <visual>
      <origin rpy="0 0 0" xyz="0 0 0"/>
      <geometry>
        <box size="0.01 0.01 0.01"/>
      </geometry>
    </visual>
  </link>
  <joint name="r_hand_force_torque_joint" type="fixed">
    <origin rpy="0 0 3.141592" xyz="0 -0.1245 0"/>
    <parent link="r_hand"/>
    <child link="r_hand_force_torque"/>
  </joint>
  <joint name="left_robotiq_hand_joint" type="fixed">
    <origin rpy="0 -1.57079 0" xyz="0 0.06566 0.0"/>
    <parent link="l_hand_force_torque"/>
    <child link="left_palm"/>
  </joint>
  <link name="left_finger_1_link_0">
    <visual>
      <origin rpy="0 0 0" xyz="0.020 0 0"/>
      <geometry>
        <mesh filename="package://robotiq_hand_description/meshes/s-model_articulated/visual/link_0.obj"/>
      </geometry>
      <material name="green">
        <color rgba="0 1 0 1"/>
      </material>
    </visual>
  </link>
  <link name="left_finger_1_link_1">
    <visual>
      <origin rpy="0 0 -0.52" xyz="0.050 -.028 0"/>
      <geometry>
        <mesh filename="package://robotiq_hand_description/meshes/s-model_articulated/visual/link_1.obj"/>
      </geometry>
      <material name="green"/>
    </visual>
  </link>
  <link name="left_finger_1_link_2">
    <!--
			NOTE: This link has an offset in the z-direction based on the models that were
			used to generate grap-it poses.  With the offset below the model appears visually
			correct, but it is suspect.
			-->
    <visual>
      <origin rpy="0 0 0" xyz="0.039 0 0.0075"/>
      <geometry>
        <mesh filename="package://robotiq_hand_description/meshes/s-model_articulated/visual/link_2.obj"/>
      </geometry>
      <material name="green"/>
    </visual>
  </link>
  <link name="left_finger_1_link_3">
    <visual>
      <origin rpy="0 0 0.52" xyz="0 0 0"/>
      <geometry>
        <mesh filename="package://robotiq_hand_description/meshes/s-model_articulated/visual/link_3.obj"/>
      </geometry>
      <material name="green"/>
    </visual>
  </link>
  <joint name="left_finger_1_joint_1" type="revolute">
    <parent link="left_finger_1_link_0"/>
    <child link="left_finger_1_link_1"/>
    <axis xyz="0 0 1"/>
    <origin rpy="0 0 0" xyz="0.020 0 0"/>
    <limit effort="100" lower="0" upper="3.1416" velocity="100"/>
  </joint>
  <joint name="left_finger_1_joint_2" type="revolute">
    <parent link="left_finger_1_link_1"/>
    <child link="left_finger_1_link_2"/>
    <axis xyz="0 0 1"/>
    <origin rpy="0 0 -0.52" xyz="0.050 -.028 0"/>
    <limit effort="100" lower="0" upper="3.1416" velocity="100"/>
  </joint>
  <joint name="left_finger_1_joint_3" type="revolute">
    <parent link="left_finger_1_link_2"/>
    <child link="left_finger_1_link_3"/>
    <axis xyz="0 0 1"/>
    <origin rpy="0 0 0" xyz="0.039 0 0"/>
    <limit effort="100" lower="0" upper="3.1416" velocity="100"/>
  </joint>
  <link name="left_finger_2_link_0">
    <visual>
      <origin rpy="0 0 0" xyz="0.020 0 0"/>
      <geometry>
        <mesh filename="package://robotiq_hand_description/meshes/s-model_articulated/visual/link_0.obj"/>
      </geometry>
      <material name="green">
        <color rgba="0 1 0 1"/>
      </material>
    </visual>
  </link>
  <link name="left_finger_2_link_1">
    <visual>
      <origin rpy="0 0 -0.52" xyz="0.050 -.028 0"/>
      <geometry>
        <mesh filename="package://robotiq_hand_description/meshes/s-model_articulated/visual/link_1.obj"/>
      </geometry>
      <material name="green"/>
    </visual>
  </link>
  <link name="left_finger_2_link_2">
    <!--
			NOTE: This link has an offset in the z-direction based on the models that were
			used to generate grap-it poses.  With the offset below the model appears visually
			correct, but it is suspect.
			-->
    <visual>
      <origin rpy="0 0 0" xyz="0.039 0 0.0075"/>
      <geometry>
        <mesh filename="package://robotiq_hand_description/meshes/s-model_articulated/visual/link_2.obj"/>
      </geometry>
      <material name="green"/>
    </visual>
  </link>
  <link name="left_finger_2_link_3">
    <visual>
      <origin rpy="0 0 0.52" xyz="0 0 0"/>
      <geometry>
        <mesh filename="package://robotiq_hand_description/meshes/s-model_articulated/visual/link_3.obj"/>
      </geometry>
      <material name="green"/>
    </visual>
  </link>
  <joint name="left_finger_2_joint_1" type="revolute">
    <parent link="left_finger_2_link_0"/>
    <child link="left_finger_2_link_1"/>
    <axis xyz="0 0 1"/>
    <origin rpy="0 0 0" xyz="0.020 0 0"/>
    <limit effort="100" lower="0" upper="3.1416" velocity="100"/>
  </joint>
  <joint name="left_finger_2_joint_2" type="revolute">
    <parent link="left_finger_2_link_1"/>
    <child link="left_finger_2_link_2"/>
    <axis xyz="0 0 1"/>
    <origin rpy="0 0 -0.52" xyz="0.050 -.028 0"/>
    <limit effort="100" lower="0" upper="3.1416" velocity="100"/>
  </joint>
  <joint name="left_finger_2_joint_3" type="revolute">
    <parent link="left_finger_2_link_2"/>
    <child link="left_finger_2_link_3"/>
    <axis xyz="0 0 1"/>
    <origin rpy="0 0 0" xyz="0.039 0 0"/>
    <limit effort="100" lower="0" upper="3.1416" velocity="100"/>
  </joint>
  <link name="left_finger_middle_link_0">
    <visual>
      <origin rpy="0 0 0" xyz="0.020 0 0"/>
      <geometry>
        <mesh filename="package://robotiq_hand_description/meshes/s-model_articulated/visual/link_0.obj"/>
      </geometry>
      <material name="green">
        <color rgba="0 1 0 1"/>
      </material>
    </visual>
  </link>
  <link name="left_finger_middle_link_1">
    <visual>
      <origin rpy="0 0 -0.52" xyz="0.050 -.028 0"/>
      <geometry>
        <mesh filename="package://robotiq_hand_description/meshes/s-model_articulated/visual/link_1.obj"/>
      </geometry>
      <material name="green"/>
    </visual>
  </link>
  <link name="left_finger_middle_link_2">
    <!--
			NOTE: This link has an offset in the z-direction based on the models that were
			used to generate grap-it poses.  With the offset below the model appears visually
			correct, but it is suspect.
			-->
    <visual>
      <origin rpy="0 0 0" xyz="0.039 0 0.0075"/>
      <geometry>
        <mesh filename="package://robotiq_hand_description/meshes/s-model_articulated/visual/link_2.obj"/>
      </geometry>
      <material name="green"/>
    </visual>
  </link>
  <link name="left_finger_middle_link_3">
    <visual>
      <origin rpy="0 0 0.52" xyz="0 0 0"/>
      <geometry>
        <mesh filename="package://robotiq_hand_description/meshes/s-model_articulated/visual/link_3.obj"/>
      </geometry>
      <material name="green"/>
    </visual>
  </link>
  <joint name="left_finger_middle_joint_1" type="revolute">
    <parent link="left_finger_middle_link_0"/>
    <child link="left_finger_middle_link_1"/>
    <axis xyz="0 0 1"/>
    <origin rpy="0 0 0" xyz="0.020 0 0"/>
    <limit effort="100" lower="0" upper="3.1416" velocity="100"/>
  </joint>
  <joint name="left_finger_middle_joint_2" type="revolute">
    <parent link="left_finger_middle_link_1"/>
    <child link="left_finger_middle_link_2"/>
    <axis xyz="0 0 1"/>
    <origin rpy="0 0 -0.52" xyz="0.050 -.028 0"/>
    <limit effort="100" lower="0" upper="3.1416" velocity="100"/>
  </joint>
  <joint name="left_finger_middle_joint_3" type="revolute">
    <parent link="left_finger_middle_link_2"/>
    <child link="left_finger_middle_link_3"/>
    <axis xyz="0 0 1"/>
    <origin rpy="0 0 0" xyz="0.039 0 0"/>
    <limit effort="100" lower="0" upper="3.1416" velocity="100"/>
  </joint>
  <link name="left_palm">
    <inertial>
      <!-- Total mass of robotiq hand from the associated urdf -->
      <mass value="2.3002"/>
      <origin xyz="0 0 0"/>
      <inertia ixx="0.001" ixy="0.0" ixz="0.0" iyy="0.001" iyz="0.0" izz="0.001"/>
    </inertial>
    <visual>
      <geometry>
        <mesh filename="package://robotiq_hand_description/meshes/s-model_articulated/visual/palm.obj"/>
      </geometry>
      <material name="green">
        <color rgba="0 1 0 1"/>
      </material>
    </visual>
  </link>
  <joint name="left_palm_finger_1_joint" type="revolute">
    <parent link="left_palm"/>
    <child link="left_finger_1_link_0"/>
    <axis xyz="0 1 0"/>
    <origin rpy="0 3.1416 -1.57" xyz="-0.0455 0.0214 0.036"/>
    <limit effort="100" lower="-0.16" upper="0.25" velocity="100"/>
  </joint>
  <joint name="left_palm_finger_2_joint" type="revolute">
    <parent link="left_palm"/>
    <child link="left_finger_2_link_0"/>
    <axis xyz="0 1 0"/>
    <origin rpy="0 3.1416 -1.57" xyz="-0.0455 0.0214 -0.036"/>
    <limit effort="100" lower="-0.25" upper="0.16" velocity="100"/>
  </joint>
  <joint name="left_palm_finger_middle_joint" type="fixed">
    <parent link="left_palm"/>
    <child link="left_finger_middle_link_0"/>
    <axis xyz="0 0 1"/>
    <origin rpy="0 0 1.57" xyz="0.0455 0.0214 0"/>
  </joint>
  <joint name="right_robotiq_hand_joint" type="fixed">
    <origin rpy="0 -1.57079 0" xyz="0 0.06566 0.0"/>
    <parent link="r_hand_force_torque"/>
    <child link="right_palm"/>
  </joint>
  <link name="right_finger_1_link_0">
    <visual>
      <origin rpy="0 0 0" xyz="0.020 0 0"/>
      <geometry>
        <mesh filename="package://robotiq_hand_description/meshes/s-model_articulated/visual/link_0.obj"/>
      </geometry>
      <material name="green">
        <color rgba="0 1 0 1"/>
      </material>
    </visual>
  </link>
  <link name="right_finger_1_link_1">
    <visual>
      <origin rpy="0 0 -0.52" xyz="0.050 -.028 0"/>
      <geometry>
        <mesh filename="package://robotiq_hand_description/meshes/s-model_articulated/visual/link_1.obj"/>
      </geometry>
      <material name="green"/>
    </visual>
  </link>
  <link name="right_finger_1_link_2">
    <!--
			NOTE: This link has an offset in the z-direction based on the models that were
			used to generate grap-it poses.  With the offset below the model appears visually
			correct, but it is suspect.
			-->
    <visual>
      <origin rpy="0 0 0" xyz="0.039 0 0.0075"/>
      <geometry>
        <mesh filename="package://robotiq_hand_description/meshes/s-model_articulated/visual/link_2.obj"/>
      </geometry>
      <material name="green"/>
    </visual>
  </link>
  <link name="right_finger_1_link_3">
    <visual>
      <origin rpy="0 0 0.52" xyz="0 0 0"/>
      <geometry>
        <mesh filename="package://robotiq_hand_description/meshes/s-model_articulated/visual/link_3.obj"/>
      </geometry>
      <material name="green"/>
    </visual>
  </link>
  <joint name="right_finger_1_joint_1" type="revolute">
    <parent link="right_finger_1_link_0"/>
    <child link="right_finger_1_link_1"/>
    <axis xyz="0 0 1"/>
    <origin rpy="0 0 0" xyz="0.020 0 0"/>
    <limit effort="100" lower="0" upper="3.1416" velocity="100"/>
  </joint>
  <joint name="right_finger_1_joint_2" type="revolute">
    <parent link="right_finger_1_link_1"/>
    <child link="right_finger_1_link_2"/>
    <axis xyz="0 0 1"/>
    <origin rpy="0 0 -0.52" xyz="0.050 -.028 0"/>
    <limit effort="100" lower="0" upper="3.1416" velocity="100"/>
  </joint>
  <joint name="right_finger_1_joint_3" type="revolute">
    <parent link="right_finger_1_link_2"/>
    <child link="right_finger_1_link_3"/>
    <axis xyz="0 0 1"/>
    <origin rpy="0 0 0" xyz="0.039 0 0"/>
    <limit effort="100" lower="0" upper="3.1416" velocity="100"/>
  </joint>
  <link name="right_finger_2_link_0">
    <visual>
      <origin rpy="0 0 0" xyz="0.020 0 0"/>
      <geometry>
        <mesh filename="package://robotiq_hand_description/meshes/s-model_articulated/visual/link_0.obj"/>
      </geometry>
      <material name="green">
        <color rgba="0 1 0 1"/>
      </material>
    </visual>
  </link>
  <link name="right_finger_2_link_1">
    <visual>
      <origin rpy="0 0 -0.52" xyz="0.050 -.028 0"/>
      <geometry>
        <mesh filename="package://robotiq_hand_description/meshes/s-model_articulated/visual/link_1.obj"/>
      </geometry>
      <material name="green"/>
    </visual>
  </link>
  <link name="right_finger_2_link_2">
    <!--
			NOTE: This link has an offset in the z-direction based on the models that were
			used to generate grap-it poses.  With the offset below the model appears visually
			correct, but it is suspect.
			-->
    <visual>
      <origin rpy="0 0 0" xyz="0.039 0 0.0075"/>
      <geometry>
        <mesh filename="package://robotiq_hand_description/meshes/s-model_articulated/visual/link_2.obj"/>
      </geometry>
      <material name="green"/>
    </visual>
  </link>
  <link name="right_finger_2_link_3">
    <visual>
      <origin rpy="0 0 0.52" xyz="0 0 0"/>
      <geometry>
        <mesh filename="package://robotiq_hand_description/meshes/s-model_articulated/visual/link_3.obj"/>
      </geometry>
      <material name="green"/>
    </visual>
  </link>
  <joint name="right_finger_2_joint_1" type="revolute">
    <parent link="right_finger_2_link_0"/>
    <child link="right_finger_2_link_1"/>
    <axis xyz="0 0 1"/>
    <origin rpy="0 0 0" xyz="0.020 0 0"/>
    <limit effort="100" lower="0" upper="3.1416" velocity="100"/>
  </joint>
  <joint name="right_finger_2_joint_2" type="revolute">
    <parent link="right_finger_2_link_1"/>
    <child link="right_finger_2_link_2"/>
    <axis xyz="0 0 1"/>
    <origin rpy="0 0 -0.52" xyz="0.050 -.028 0"/>
    <limit effort="100" lower="0" upper="3.1416" velocity="100"/>
  </joint>
  <joint name="right_finger_2_joint_3" type="revolute">
    <parent link="right_finger_2_link_2"/>
    <child link="right_finger_2_link_3"/>
    <axis xyz="0 0 1"/>
    <origin rpy="0 0 0" xyz="0.039 0 0"/>
    <limit effort="100" lower="0" upper="3.1416" velocity="100"/>
  </joint>
  <link name="right_finger_middle_link_0">
    <visual>
      <origin rpy="0 0 0" xyz="0.020 0 0"/>
      <geometry>
        <mesh filename="package://robotiq_hand_description/meshes/s-model_articulated/visual/link_0.obj"/>
      </geometry>
      <material name="green">
        <color rgba="0 1 0 1"/>
      </material>
    </visual>
  </link>
  <link name="right_finger_middle_link_1">
    <visual>
      <origin rpy="0 0 -0.52" xyz="0.050 -.028 0"/>
      <geometry>
        <mesh filename="package://robotiq_hand_description/meshes/s-model_articulated/visual/link_1.obj"/>
      </geometry>
      <material name="green"/>
    </visual>
  </link>
  <link name="right_finger_middle_link_2">
    <!--
			NOTE: This link has an offset in the z-direction based on the models that were
			used to generate grap-it poses.  With the offset below the model appears visually
			correct, but it is suspect.
			-->
    <visual>
      <origin rpy="0 0 0" xyz="0.039 0 0.0075"/>
      <geometry>
        <mesh filename="package://robotiq_hand_description/meshes/s-model_articulated/visual/link_2.obj"/>
      </geometry>
      <material name="green"/>
    </visual>
  </link>
  <link name="right_finger_middle_link_3">
    <visual>
      <origin rpy="0 0 0.52" xyz="0 0 0"/>
      <geometry>
        <mesh filename="package://robotiq_hand_description/meshes/s-model_articulated/visual/link_3.obj"/>
      </geometry>
      <material name="green"/>
    </visual>
  </link>
  <joint name="right_finger_middle_joint_1" type="revolute">
    <parent link="right_finger_middle_link_0"/>
    <child link="right_finger_middle_link_1"/>
    <axis xyz="0 0 1"/>
    <origin rpy="0 0 0" xyz="0.020 0 0"/>
    <limit effort="100" lower="0" upper="3.1416" velocity="100"/>
  </joint>
  <joint name="right_finger_middle_joint_2" type="revolute">
    <parent link="right_finger_middle_link_1"/>
    <child link="right_finger_middle_link_2"/>
    <axis xyz="0 0 1"/>
    <origin rpy="0 0 -0.52" xyz="0.050 -.028 0"/>
    <limit effort="100" lower="0" upper="3.1416" velocity="100"/>
  </joint>
  <joint name="right_finger_middle_joint_3" type="revolute">
    <parent link="right_finger_middle_link_2"/>
    <child link="right_finger_middle_link_3"/>
    <axis xyz="0 0 1"/>
    <origin rpy="0 0 0" xyz="0.039 0 0"/>
    <limit effort="100" lower="0" upper="3.1416" velocity="100"/>
  </joint>
  <link name="right_palm">
    <inertial>
      <!-- Total mass of robotiq hand from the associated urdf -->
      <mass value="2.3002"/>
      <origin xyz="0 0 0"/>
      <inertia ixx="0.001" ixy="0.0" ixz="0.0" iyy="0.001" iyz="0.0" izz="0.001"/>
    </inertial>
    <visual>
      <geometry>
        <mesh filename="package://robotiq_hand_description/meshes/s-model_articulated/visual/palm.obj"/>
      </geometry>
      <material name="green">
        <color rgba="0 1 0 1"/>
      </material>
    </visual>
  </link>
  <joint name="right_palm_finger_1_joint" type="revolute">
    <parent link="right_palm"/>
    <child link="right_finger_1_link_0"/>
    <axis xyz="0 1 0"/>
    <origin rpy="0 3.1416 -1.57" xyz="-0.0455 0.0214 0.036"/>
    <limit effort="100" lower="-0.16" upper="0.25" velocity="100"/>
  </joint>
  <joint name="right_palm_finger_2_joint" type="revolute">
    <parent link="right_palm"/>
    <child link="right_finger_2_link_0"/>
    <axis xyz="0 1 0"/>
    <origin rpy="0 3.1416 -1.57" xyz="-0.0455 0.0214 -0.036"/>
    <limit effort="100" lower="-0.25" upper="0.16" velocity="100"/>
  </joint>
  <joint name="right_palm_finger_middle_joint" type="fixed">
    <parent link="right_palm"/>
    <child link="right_finger_middle_link_0"/>
    <axis xyz="0 0 1"/>
    <origin rpy="0 0 1.57" xyz="0.0455 0.0214 0"/>
  </joint>
  <link name="left_convex_palm">
    <collision group="left_convex_hand_robotiq">
      <origin rpy="-1.57079 -1.57079 0" xyz="0 0.1725 0"/>
      <geometry>
        <mesh filename="package://robotiq_hand_description/meshes/s-model/collision/GRIPPER_OPEN_chull.obj" scale="1 1 1"/>
      </geometry>
    </collision>
  </link>
  <joint name="left_convex_palm_joint" type="fixed">
    <parent link="l_hand_force_torque"/>
    <child link="left_convex_palm"/>
  </joint>
  <link name="right_convex_palm">
    <collision group="right_convex_hand_robotiq">
      <origin rpy="-1.57079 -1.57079 0" xyz="0 0.1725 0"/>
      <geometry>
        <mesh filename="package://robotiq_hand_description/meshes/s-model/collision/GRIPPER_OPEN_chull.obj" scale="1 1 1"/>
      </geometry>
    </collision>
  </link>
  <joint name="right_convex_palm_joint" type="fixed">
    <parent link="r_hand_force_torque"/>
    <child link="right_convex_palm"/>
  </joint>
  <joint name="l_hand_face_joint" type="fixed">
    <origin rpy="0.0 0.0 0.0" xyz="0 0.12 0"/>
    <parent link="l_hand_force_torque"/>
    <child link="l_hand_face"/>
  </joint>
  <link name="l_hand_face"/>
  <joint name="l_hand_gripper_joint" type="fixed">
    <origin rpy="0.0 0.0 0.0" xyz="0 0.18 0"/>
    <parent link="l_hand_force_torque"/>
    <child link="l_hand_gripper"/>
  </joint>
  <link name="l_hand_gripper"/>
  <link name="l_hand_camera_link"/>
  <joint name="l_hand_camera_joint" type="fixed">
    <parent link="l_hand_force_torque"/>
    <child link="l_hand_camera_link"/>
    <!-- new camera has no inward angle, placeholder is still here in case it is later tilted-->
    <origin rpy=" -1.57079 0  1.5708" xyz="-0.09892  0.01431 0.0"/>
  </joint>
  <joint name="l_hand_camera_optical_frame_joint" type="fixed">
    <origin rpy="-1.57079 0.0 -1.57079" xyz="0 0 0"/>
    <parent link="l_hand_camera_link"/>
    <child link="l_hand_camera_optical_frame"/>
  </joint>
  <link name="l_hand_camera_optical_frame"/>
  <gazebo reference="l_hand_camera_link">
    <sensor name="l_hand_camera_sensor" type="camera">
      <update_rate>10.0</update_rate>
      <camera name="l_hand_camera">
        <pose>0 0 0 0 0 0</pose>
        <!-- m.antone estimate of 2.8mm tamron lense fov -->
        <horizontal_fov>1.7281</horizontal_fov>
        <image>
          <width>1280</width>
          <height>1024</height>
          <format>R8G8B8</format>
        </image>
        <clip>
          <near>0.02</near>
          <far>100</far>
        </clip>
        <noise>
          <type>gaussian</type>
          <!-- Noise is sampled independently per pixel on each frame.
               That pixel's noise value is added to each of its color
               channels, which at that point lie in the range [0,1].
               The stddev value of 0.007 is based on experimental data 
               from a camera in a Sandia hand pointed at a static scene
               in a couple of different lighting conditions.  -->
          <mean>0.0</mean>
          <stddev>0.007</stddev>
        </noise>
      </camera>
      <plugin filename="libgazebo_ros_camera.so" name="l_hand_camera_controller">
        <alwaysOn>true</alwaysOn>
        <updateRate>0.0</updateRate>
        <cameraName>robotiq_hands/l_hand_camera</cameraName>
        <imageTopicName>image_raw</imageTopicName>
        <cameraInfoTopicName>camera_info</cameraInfoTopicName>
        <frameName>l_hand_camera_optical_frame</frameName>
        <hackBaseline>0.07</hackBaseline>
        <distortionK1>0.0</distortionK1>
        <distortionK2>0.0</distortionK2>
        <distortionK3>0.0</distortionK3>
        <distortionT1>0.0</distortionT1>
        <distortionT2>0.0</distortionT2>
      </plugin>
    </sensor>
  </gazebo>
  <joint name="r_hand_face_joint" type="fixed">
    <origin rpy="0.0 0.0 0.0" xyz="0 0.12 0"/>
    <parent link="r_hand_force_torque"/>
    <child link="r_hand_face"/>
  </joint>
  <link name="r_hand_face"/>
  <joint name="r_hand_gripper_joint" type="fixed">
    <origin rpy="0.0 0.0 0.0" xyz="0 0.18 0"/>
    <parent link="r_hand_force_torque"/>
    <child link="r_hand_gripper"/>
  </joint>
  <link name="r_hand_gripper"/>
  <link name="r_hand_camera_link"/>
  <joint name="r_hand_camera_joint" type="fixed">
    <parent link="r_hand_force_torque"/>
    <child link="r_hand_camera_link"/>
    <!-- new camera has no inward angle, placeholder is still here in case it is later tilted-->
    <origin rpy=" 1.57079 0  1.5708" xyz="0.09892  0.01431 0.0"/>
  </joint>
  <joint name="r_hand_camera_optical_frame_joint" type="fixed">
    <origin rpy="-1.57079 0.0 -1.57079" xyz="0 0 0"/>
    <parent link="r_hand_camera_link"/>
    <child link="r_hand_camera_optical_frame"/>
  </joint>
  <link name="r_hand_camera_optical_frame"/>
  <gazebo reference="r_hand_camera_link">
    <sensor name="r_hand_camera_sensor" type="camera">
      <update_rate>10.0</update_rate>
      <camera name="r_hand_camera">
        <pose>0 0 0 0 0 0</pose>
        <!-- m.antone estimate of 2.8mm tamron lense fov -->
        <horizontal_fov>1.7281</horizontal_fov>
        <image>
          <width>1280</width>
          <height>1024</height>
          <format>R8G8B8</format>
        </image>
        <clip>
          <near>0.02</near>
          <far>100</far>
        </clip>
        <noise>
          <type>gaussian</type>
          <!-- Noise is sampled independently per pixel on each frame.
               That pixel's noise value is added to each of its color
               channels, which at that point lie in the range [0,1].
               The stddev value of 0.007 is based on experimental data 
               from a camera in a Sandia hand pointed at a static scene
               in a couple of different lighting conditions.  -->
          <mean>0.0</mean>
          <stddev>0.007</stddev>
        </noise>
      </camera>
      <plugin filename="libgazebo_ros_camera.so" name="r_hand_camera_controller">
        <alwaysOn>true</alwaysOn>
        <updateRate>0.0</updateRate>
        <cameraName>robotiq_hands/r_hand_camera</cameraName>
        <imageTopicName>image_raw</imageTopicName>
        <cameraInfoTopicName>camera_info</cameraInfoTopicName>
        <frameName>r_hand_camera_optical_frame</frameName>
        <hackBaseline>0.07</hackBaseline>
        <distortionK1>0.0</distortionK1>
        <distortionK2>0.0</distortionK2>
        <distortionK3>0.0</distortionK3>
        <distortionT1>0.0</distortionT1>
        <distortionT2>0.0</distortionT2>
      </plugin>
    </sensor>
  </gazebo>
</robot>
